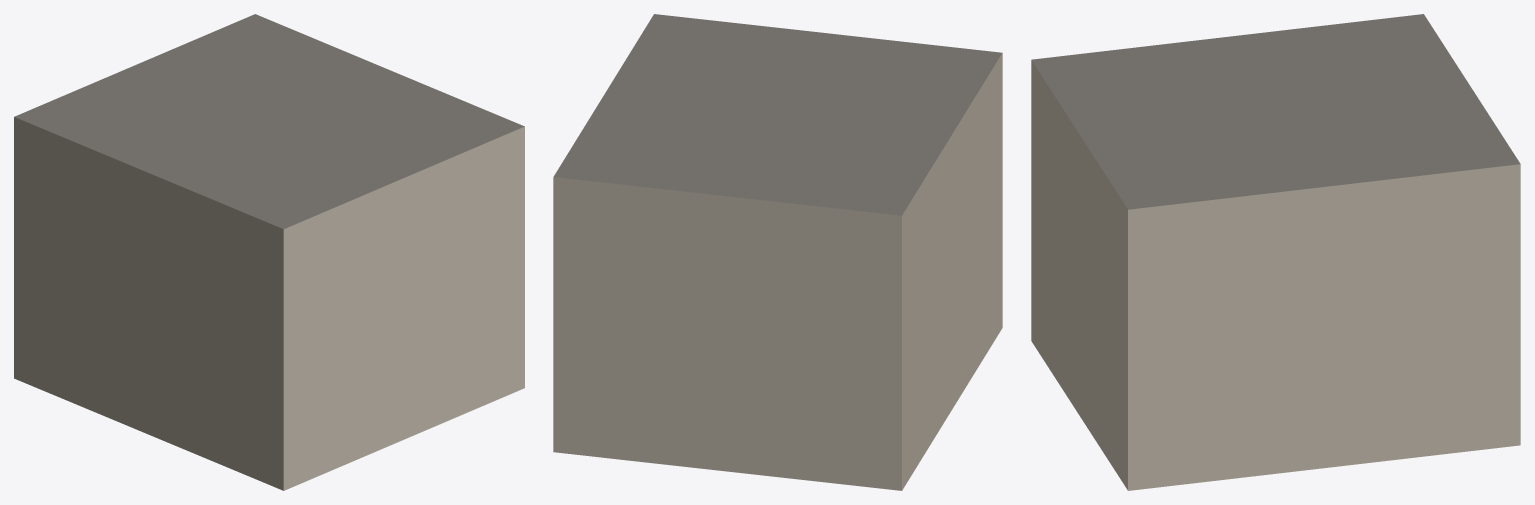
3 views of the same model, side by side, from view 1: azimuth 30°, elevation 25°; view 2: azimuth 150°, elevation 25°; view 3: azimuth 270°, elevation 25° (orthographic). The views are drawn at different scales.
Visible parts, largest first — view 1: HP-w987283672; view 2: HP-w987283672; view 3: HP-w987283672.
Boxes of the visible parts, left/top/right/bottom form: HP-w987283672: left=14, top=14, right=524, bottom=490; HP-w987283672: left=553, top=14, right=1002, bottom=490; HP-w987283672: left=1031, top=14, right=1520, bottom=490.
Bounding box in the file's own units: 26.87 × 18 × 28.39.
